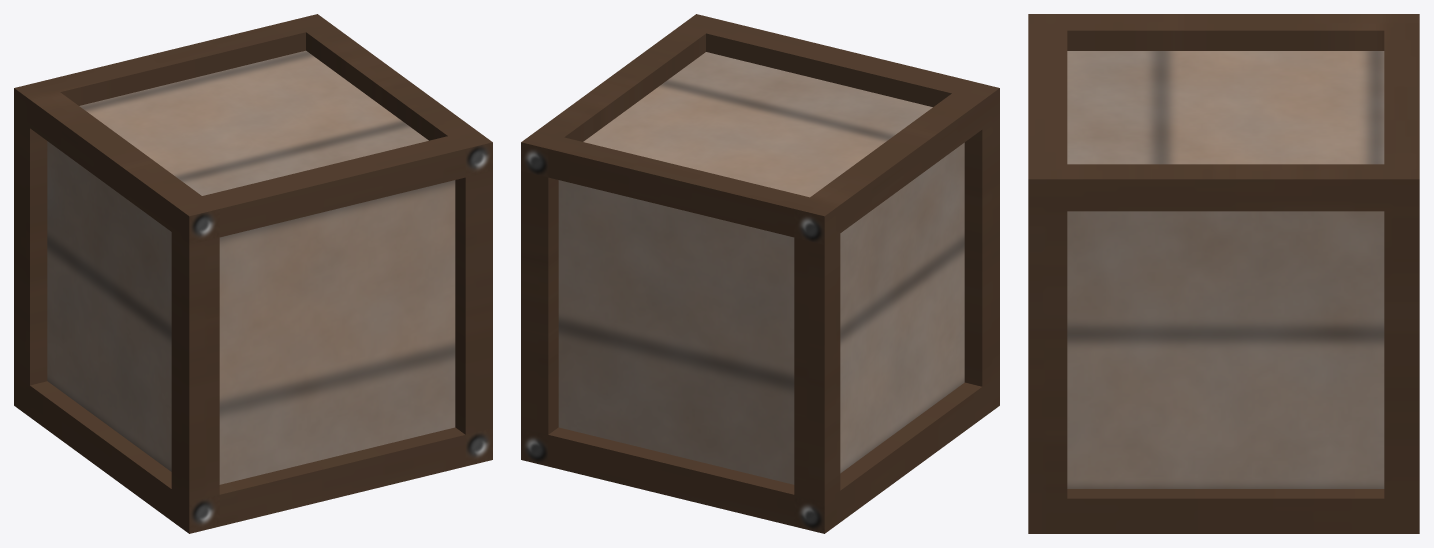
The model's file is BigBox.fbx.
3 views of the same model, side by side, from view 1: azimuth 30°, elevation 25°; view 2: azimuth 150°, elevation 25°; view 3: azimuth 270°, elevation 25° (orthographic). The views are drawn at different scales.
Visible parts, largest first — view 1: BigBox; view 2: BigBox; view 3: BigBox.
Part boxes in pixels (x1,y1,x2,y2): BigBox: (14,14,492,533); BigBox: (521,14,999,533); BigBox: (1028,14,1419,533).
Size of the model in its own units: 2 by 2 by 2.
